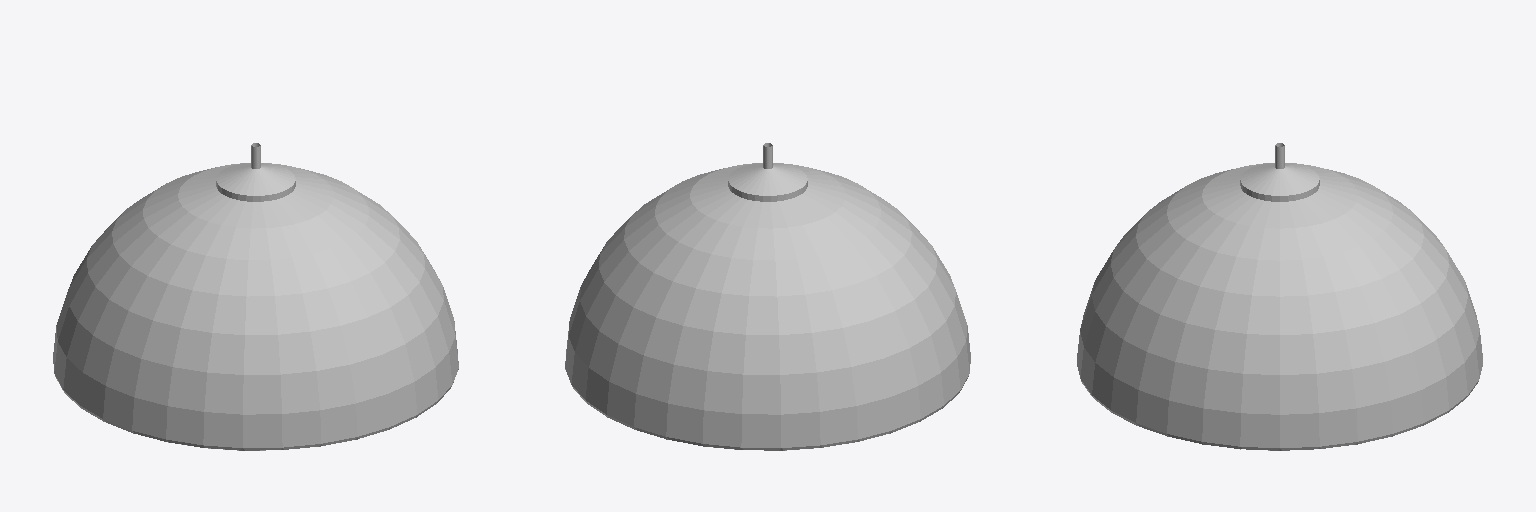
The model's file is ceiling_lamp.obj.
The picture shows the model from 3 angles: view 1: azimuth 30°, elevation 25°; view 2: azimuth 150°, elevation 25°; view 3: azimuth 270°, elevation 25°; orthographic projection.
Visible parts, largest first — view 1: Shade, Holder; view 2: Shade, Holder; view 3: Shade, Holder.
Part boxes in pixels (left/top/right/bottom): Shade: left=53, top=163, right=458, bottom=450; Holder: left=216, top=143, right=295, bottom=201; Shade: left=565, top=163, right=970, bottom=450; Holder: left=728, top=143, right=807, bottom=201; Shade: left=1077, top=163, right=1482, bottom=450; Holder: left=1240, top=143, right=1319, bottom=201.
Bounding box in the file's own units: 2 × 1.2 × 2.